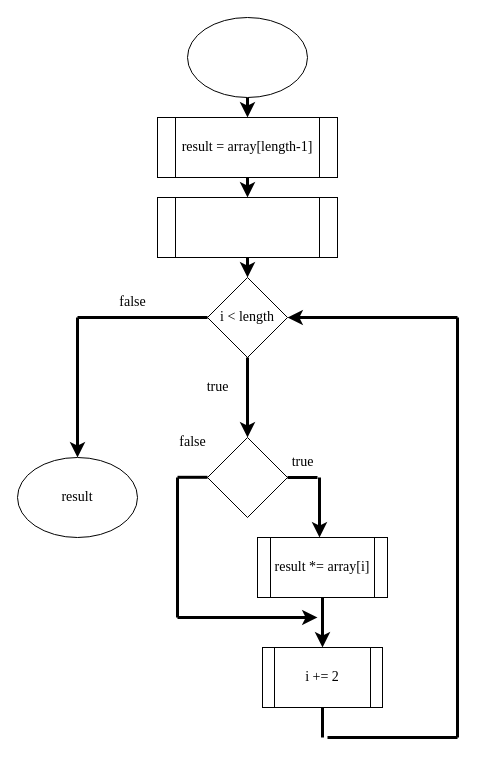
This 484x757 diagram has some shape labels left out. The shapes that lost their labels are listed below. From the top down, each one's centre as x and y in pixels, then its label:
At point (247, 57): "*array, length".
At point (247, 227): "i = 1".
At point (247, 477): "array[i] < 0".
